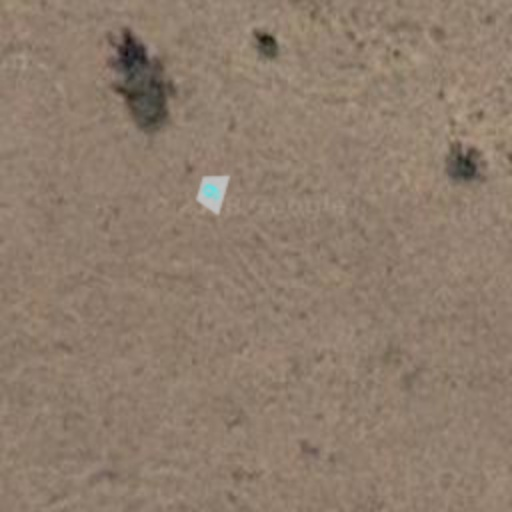trapezoid: (186, 166, 238, 218)
